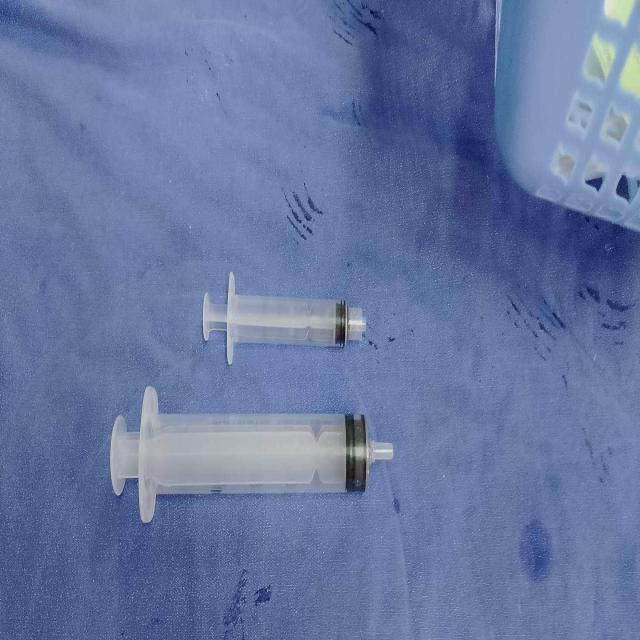Infectious: (493, 0, 640, 233)
Sharps: (109, 384, 395, 524), (202, 270, 368, 366)
